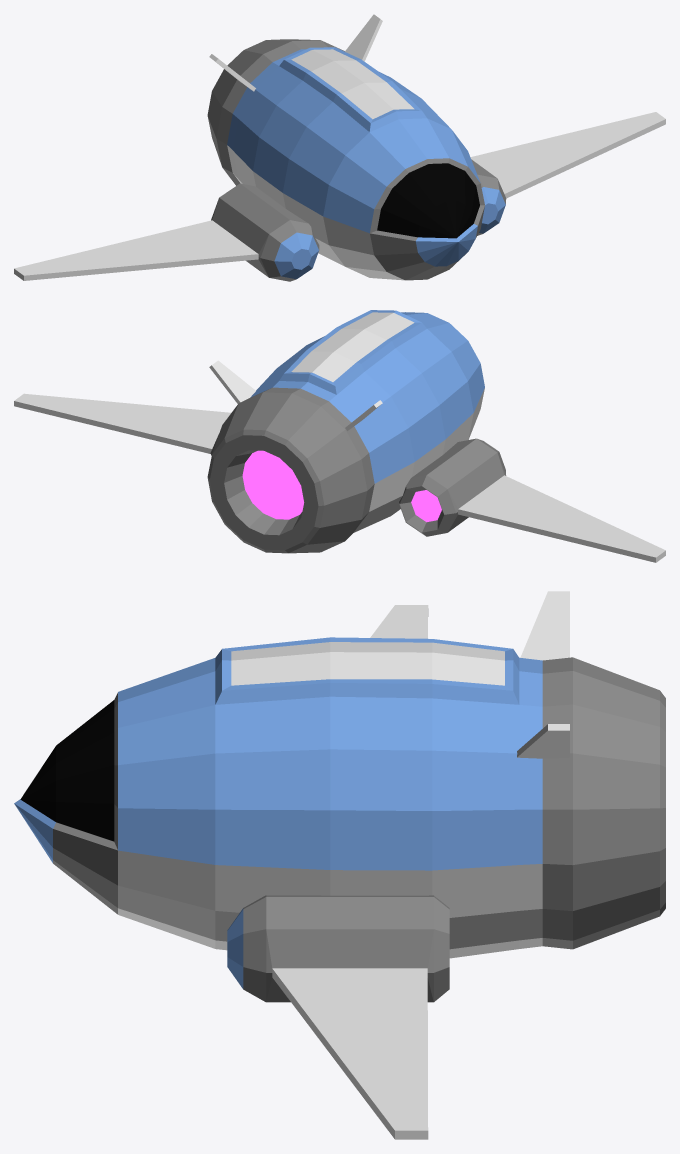
The model's file is Low_Poly_Spaceship_002.fbx.
The picture shows the model from 3 angles, top to bottom: view 1: azimuth 30°, elevation 25°; view 2: azimuth 150°, elevation 25°; view 3: azimuth 270°, elevation 25°; orthographic projection. The views are drawn at different scales.
Visible parts, largest first — view 1: Low_Poly_Spaceship_002; view 2: Low_Poly_Spaceship_002; view 3: Low_Poly_Spaceship_002.
Boxes of the visible parts, x1,y1,x2,y2 form: Low_Poly_Spaceship_002: [14, 14, 665, 281]; Low_Poly_Spaceship_002: [14, 310, 665, 562]; Low_Poly_Spaceship_002: [14, 591, 665, 1139].
Bounding box in the file's own units: 1576 × 411 × 826.
